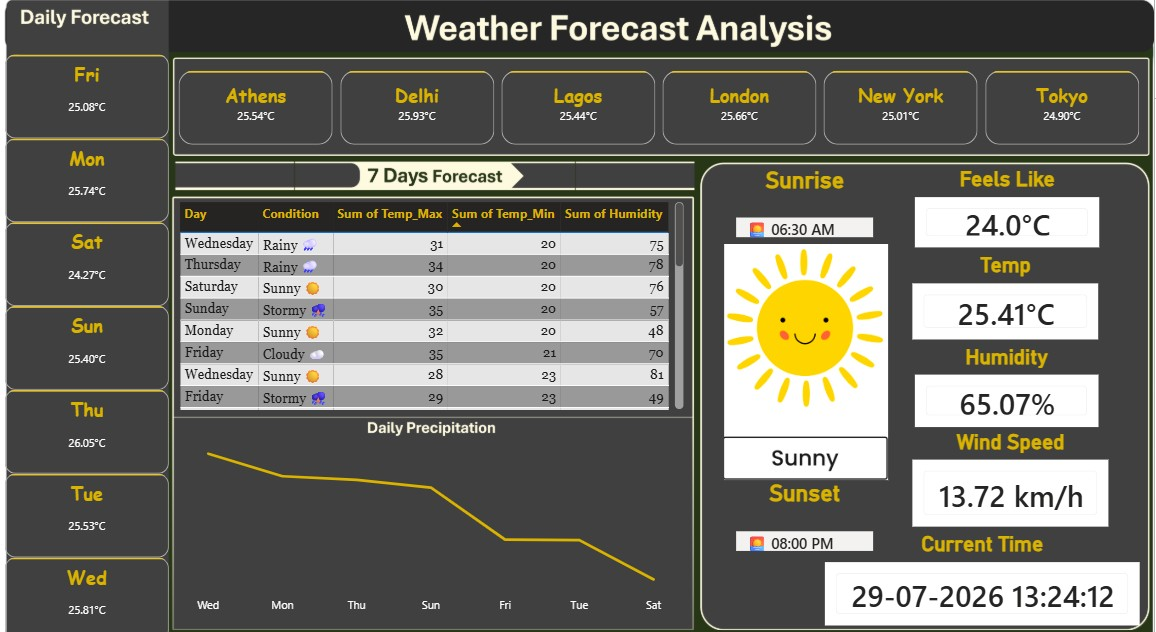

The dashboard page shown, as its layout file describes it:
{"tool":"powerbi","page":{"name":"Page 1","canvas":[1280,720],"ordinal":0},"visuals":[{"type":"advancedSlicerVisual","fields":{"Values":["Weather.City"]},"box":[204.5,79.6,1064.8,91.9],"z":0},{"type":"advancedSlicerVisual","fields":{"Values":["Weather.3.Weekday"]},"box":[13.7,61.7,190.7,658.7],"z":1000},{"type":"tableEx","fields":{"Values":["Forecast7Days.Day","Forecast7Days.Condition","Sum(Forecast7Days.Temp_Max)","Sum(Forecast7Days.Temp_Min)","Sum(Forecast7Days.Humidity)"]},"box":[204.5,223.7,564,237.4],"z":2000},{"type":"image","box":[616.1,274.4,564,259.3],"z":3000},{"type":"lineChart","fields":{"Category":["Weather.3.Weekday"],"Y":["Sum(Weather.Chance Of Rain)"]},"box":[204.5,489.9,564,199],"z":4000},{"type":"cardVisual","title":"Sunrise","fields":{"Rows":["Weather.1.SunriseNew"]},"box":[816.5,189.4,160.5,124.9],"z":5000},{"type":"cardVisual","title":"Sunset","fields":{"Rows":["Weather.2.SunetNew"]},"box":[816.5,533.8,160.5,124.9],"z":6000},{"type":"cardVisual","title":"Feels Like","fields":{"Data":["All DAX.FeelsLike"]},"box":[1012.7,189.4,212.7,94.7],"z":7000},{"type":"cardVisual","title":"Temp","fields":{"Data":["All DAX.Temp"]},"box":[1010,284,214.1,100.2],"z":8000},{"type":"cardVisual","title":"Humidity","fields":{"Data":["All DAX.Humidity"]},"box":[1012.7,384.2,211.3,96.1],"z":9000},{"type":"cardVisual","title":"Current Time","fields":{"Data":["All DAX.CurrentTime"]},"box":[913.9,590.1,355.4,108.4],"z":10000},{"type":"cardVisual","title":"Wind Speed","fields":{"Data":["All DAX.WindSpeed"]},"box":[1010,477.5,225,112.5],"z":11000}]}

Visuals, with their boxes in screenshot pixels (x1, y1, x2, y2), scaled from the page's 1280x720 canvas onto the 1156x632 screenshot:
advancedSlicerVisual - Weather.City: [185,70,1146,151]
advancedSlicerVisual - Weather.3.Weekday: [12,54,185,631]
tableEx - Forecast7Days.Day x Forecast7Days.Condition: [185,196,694,405]
image: [556,241,1066,468]
lineChart - Weather.3.Weekday x Sum(Weather.Chance Of Rain): [185,430,694,605]
"Sunrise" cardVisual: [737,166,882,276]
"Sunset" cardVisual: [737,469,882,578]
"Feels Like" cardVisual: [915,166,1107,249]
"Temp" cardVisual: [912,249,1106,337]
"Humidity" cardVisual: [915,337,1105,422]
"Current Time" cardVisual: [825,518,1146,613]
"Wind Speed" cardVisual: [912,419,1115,518]
